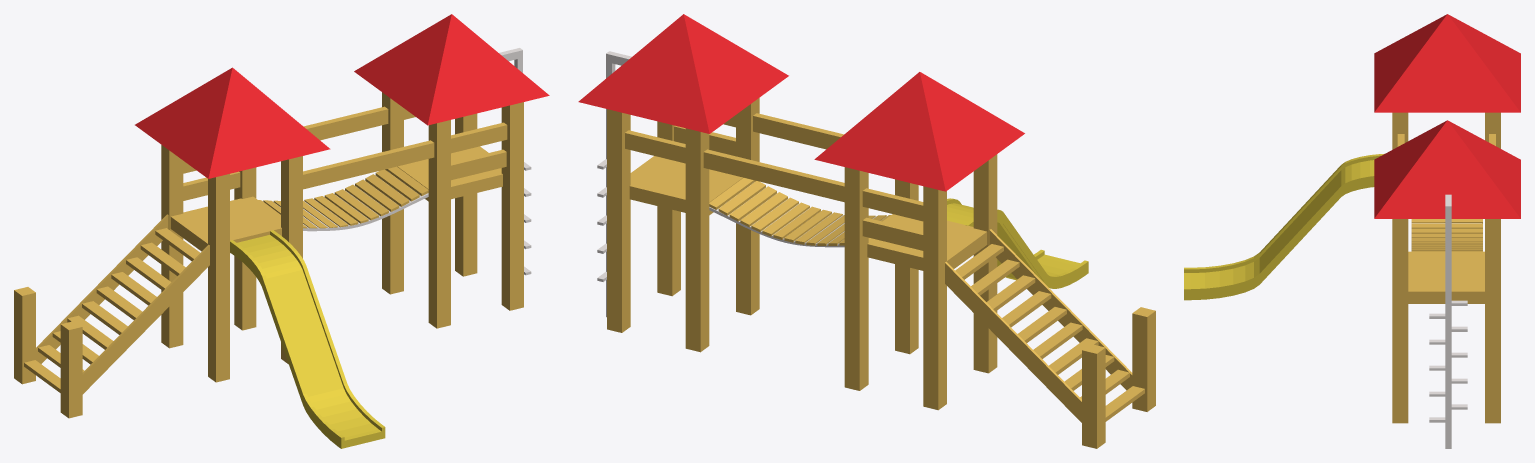
File: low-poly-slide.fbx
3 renders of one model, left to right at view 1: azimuth 30°, elevation 25°; view 2: azimuth 150°, elevation 25°; view 3: azimuth 270°, elevation 25°, orthographic. The views are drawn at different scales.
Visible parts, largest first — view 1: Slide; view 2: Slide; view 3: Slide.
Boxes of the visible parts, bbox=[...] form: Slide: bbox=[14, 14, 549, 448]; Slide: bbox=[578, 14, 1155, 448]; Slide: bbox=[1184, 14, 1520, 448].
Bounding box in the file's own units: 2164 × 1277 × 1322.
